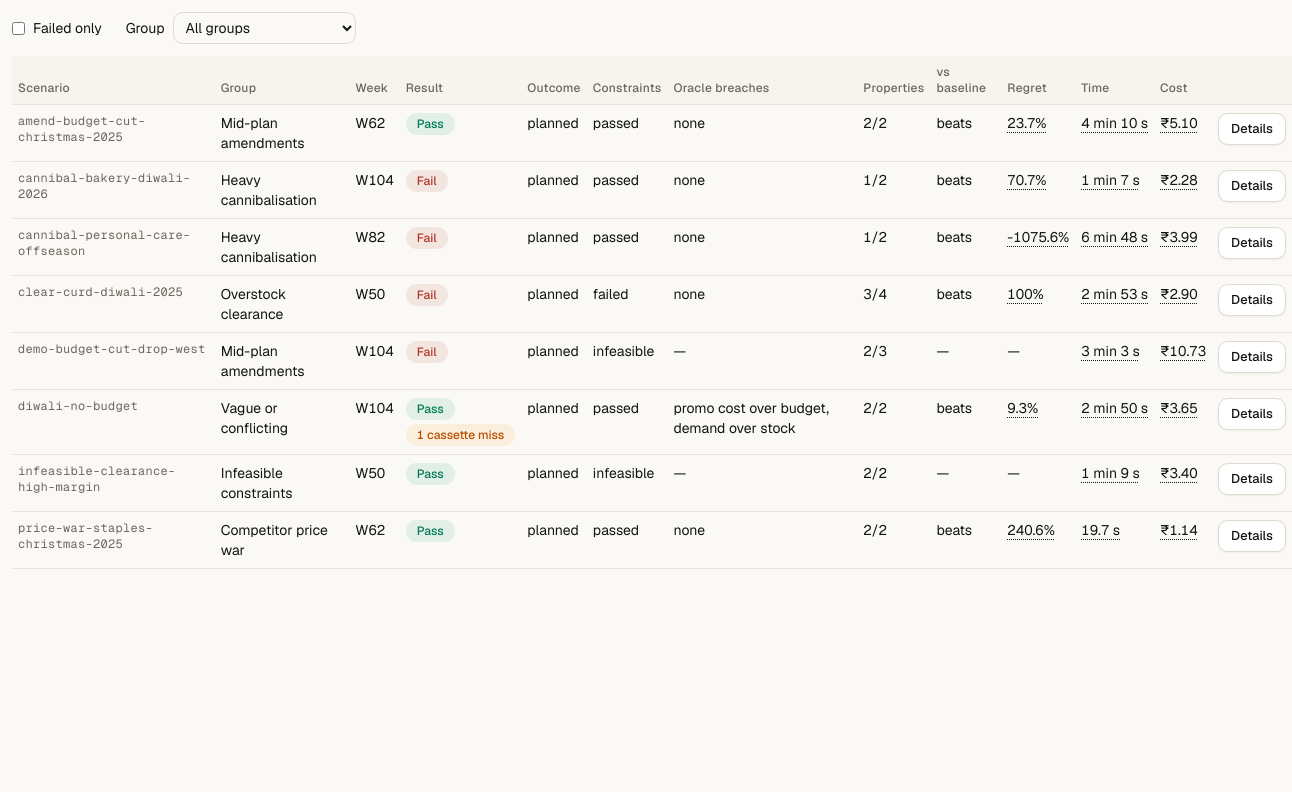
Test: EvalScenarioTable › names every failed property and violation in a failed run's detail
Click the button with aria-label "Details for clear-curd-diwali-2025" at (1252, 300), box [1218,284,1286,316]
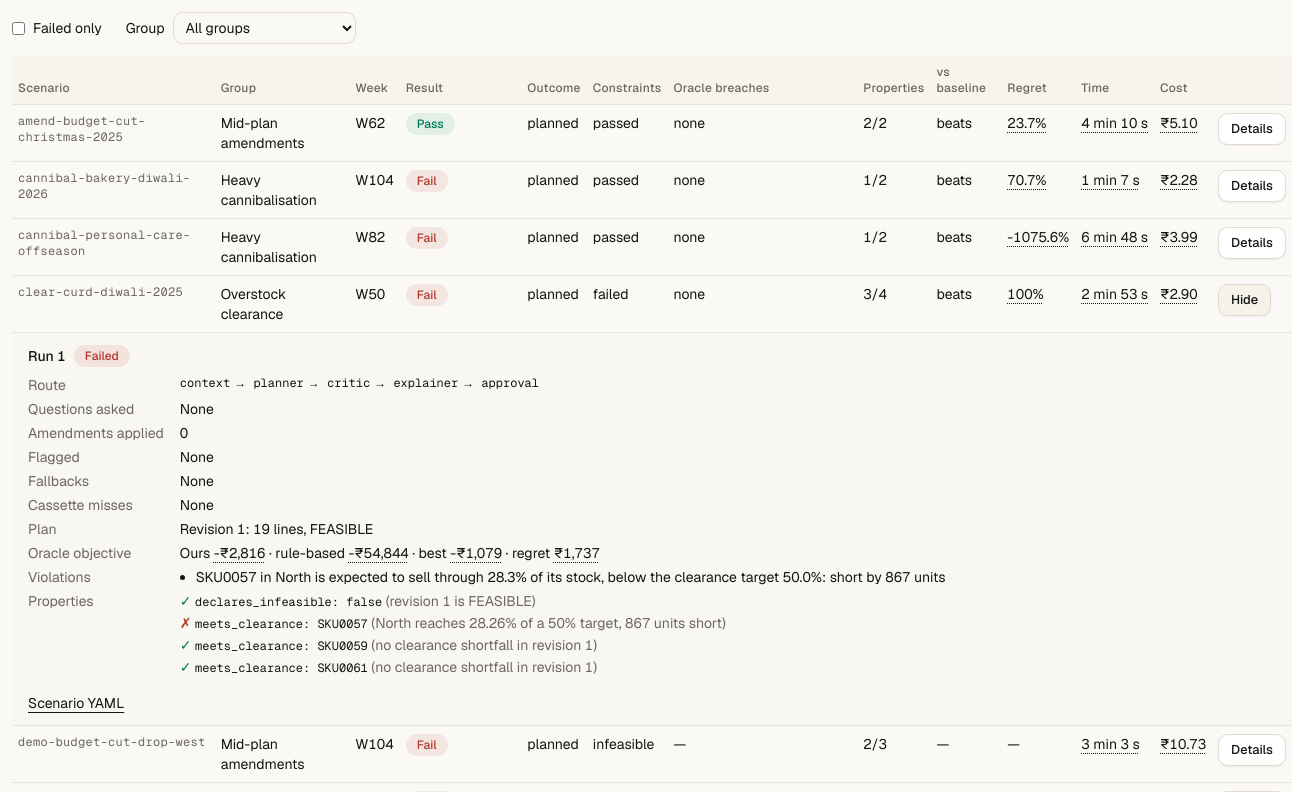
Check: the icon "Failed" is shown, box [74,345,130,367]
